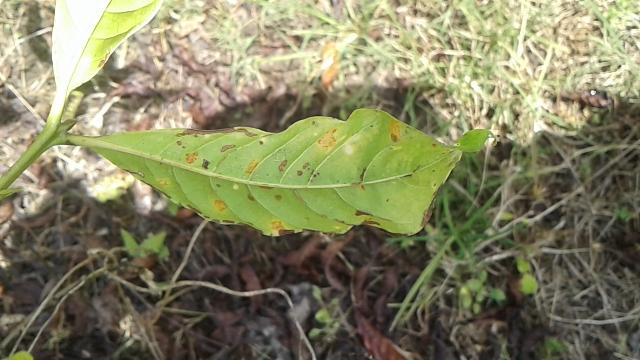rust_level_3: (87, 105, 502, 240)
